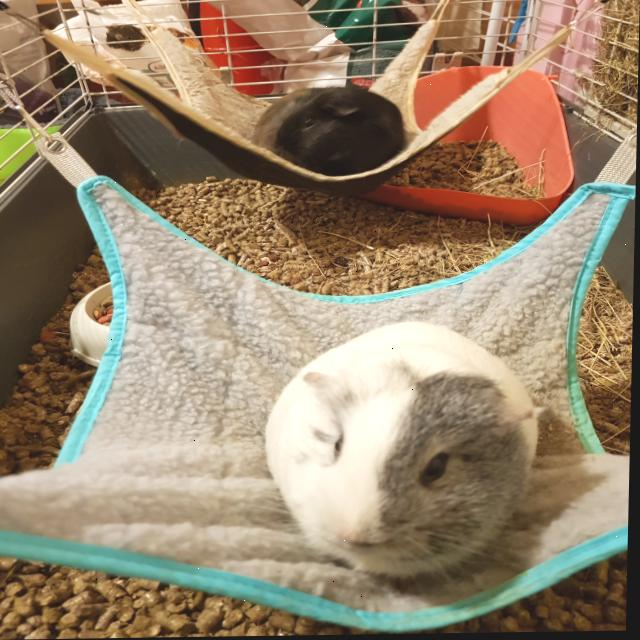guinea pig: (261, 318, 551, 584), (249, 84, 411, 180)
